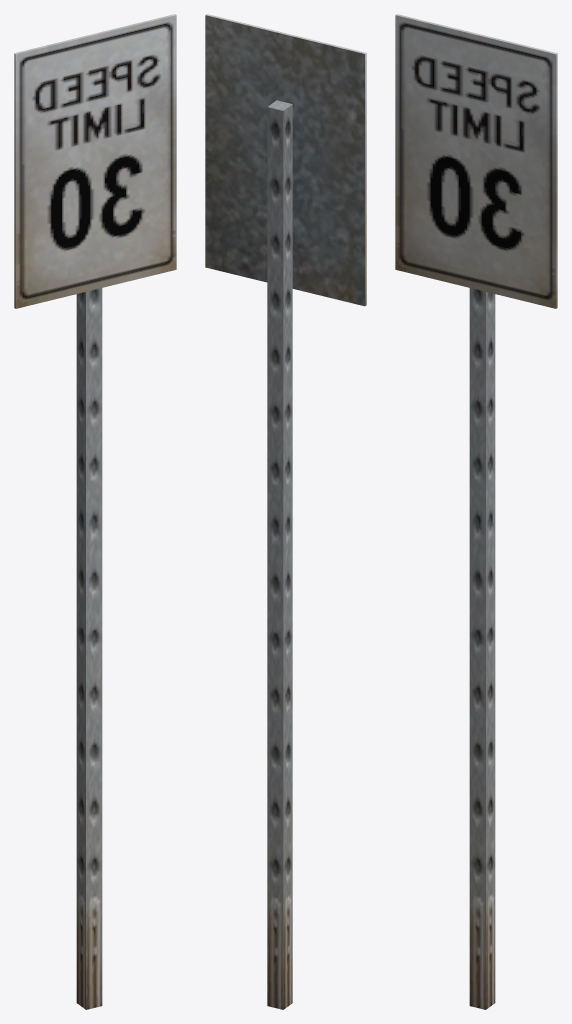
Rendered from 30mph.fbx.
The picture shows the model from 3 angles, left to right: view 1: azimuth 30°, elevation 25°; view 2: azimuth 150°, elevation 25°; view 3: azimuth 330°, elevation 25°; orthographic projection.
Parts seen in each view (by area): view 1: mesh_0, mesh_1; view 2: mesh_0, mesh_1; view 3: mesh_0, mesh_1.
Boxes of the visible parts, left/top/right/bottom form: mesh_0: left=14, top=14, right=176, bottom=308; mesh_1: left=76, top=288, right=102, bottom=1009; mesh_0: left=205, top=14, right=366, bottom=306; mesh_1: left=267, top=100, right=292, bottom=1009; mesh_0: left=395, top=14, right=557, bottom=308; mesh_1: left=469, top=288, right=495, bottom=1009.
Size of the model in its own units: 44.43 by 257 by 5.49.
2 materials, 2 textured.
